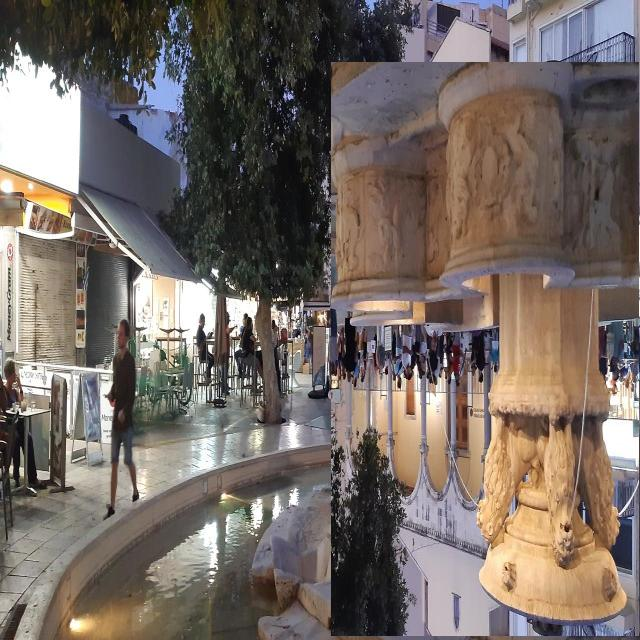Liontaria: (332, 63, 640, 637)
